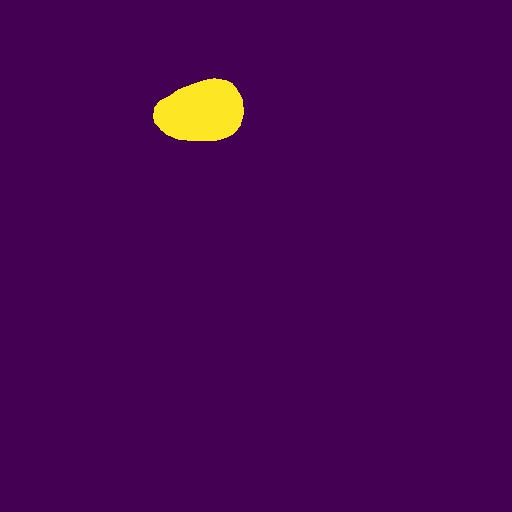Menigiomia_tumour: (153, 78, 244, 141)
